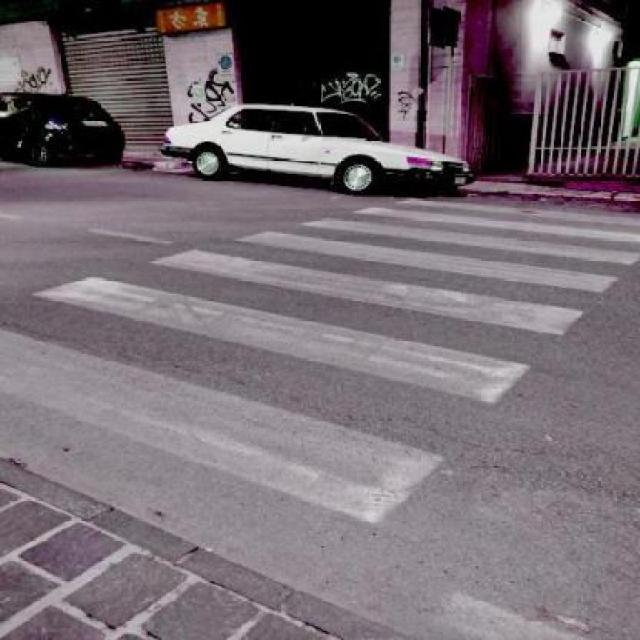crosswalk: (0, 194, 640, 528)
